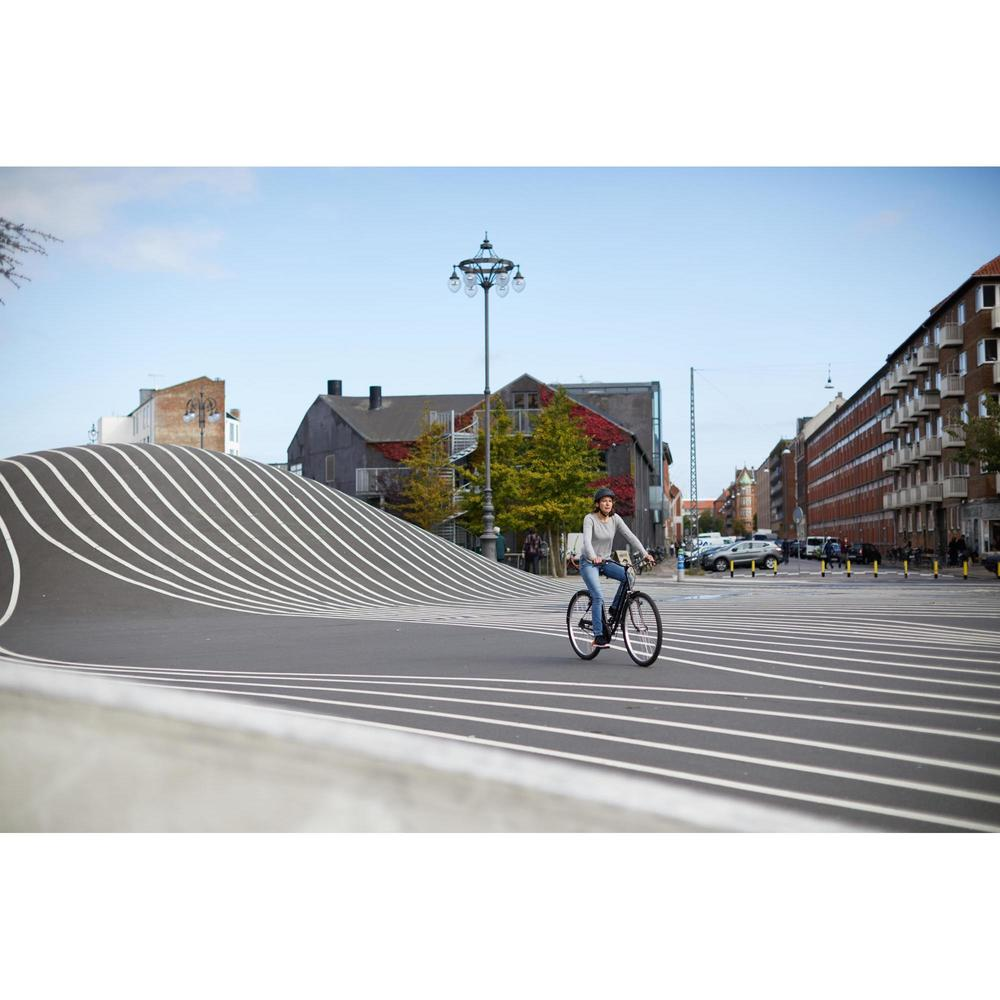UrbanBike: (564, 551, 665, 675)
